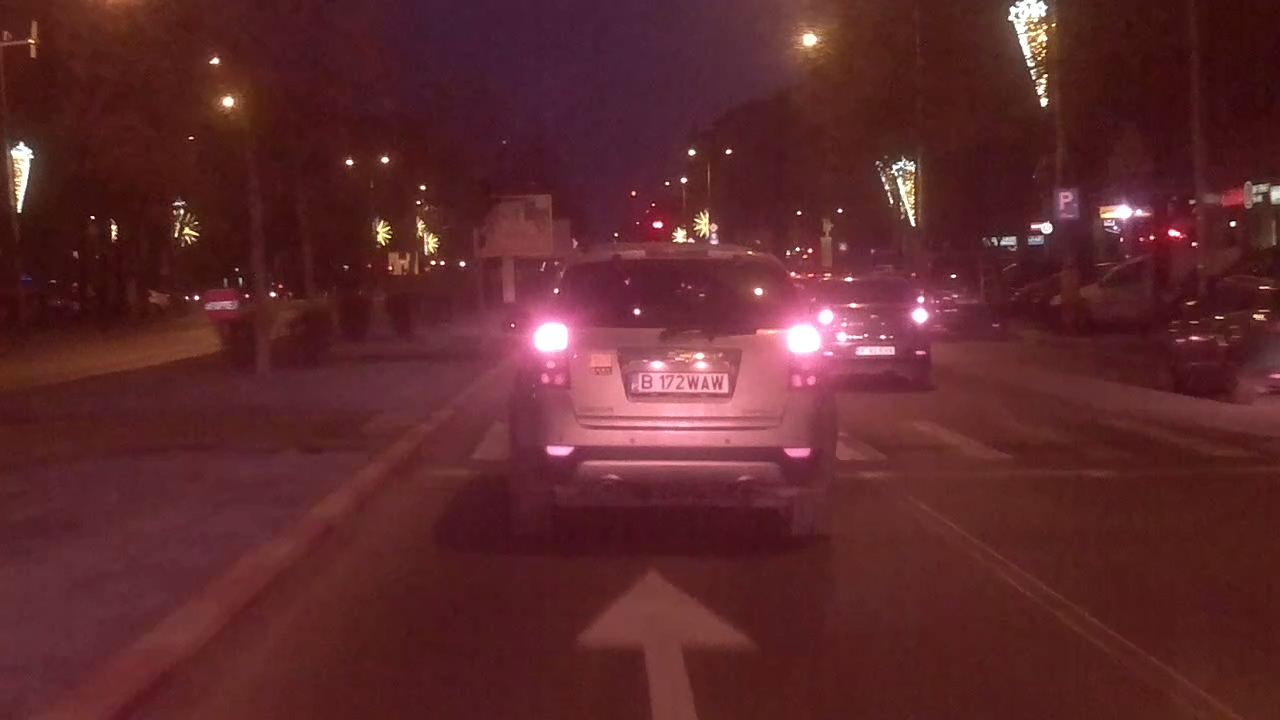license-plate: (625, 368, 731, 396)
